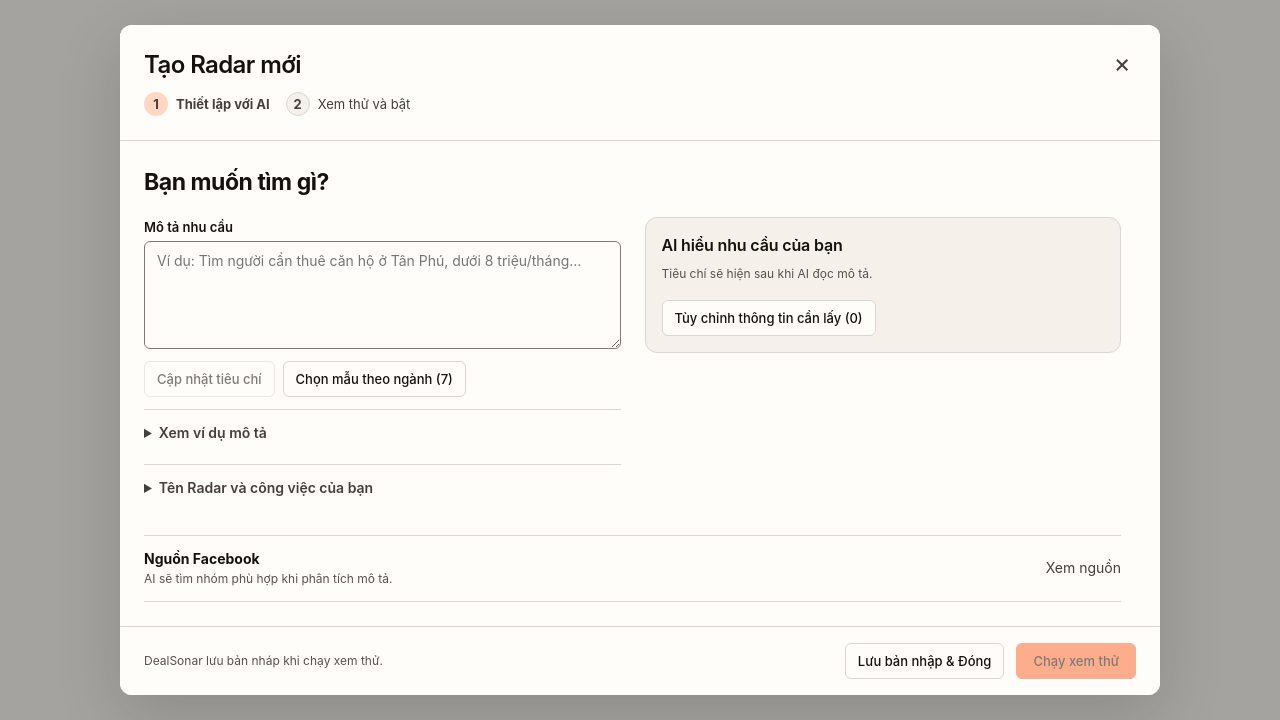
Test case: Radar goal interpretation › states a clear brief's side, excluded audience and assumption without asking
The width and height of the screenshot is (1280, 720).
Type "Tìm người cần thuê căn hộ ở Cầu Giấy" into the text box labelled "Mô tả nhu cầu" at (382, 295), box x1=144 y1=241 x2=620 y2=349
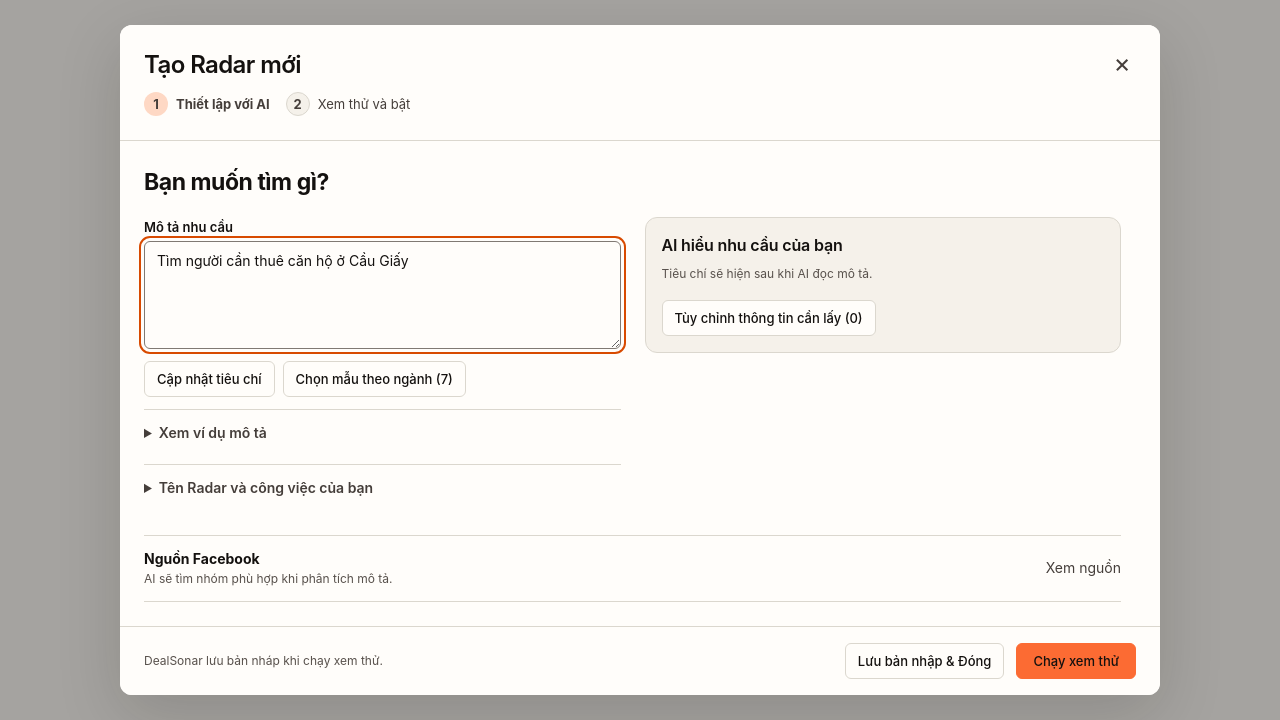
Click the button "Cập nhật tiêu chí" at (209, 379), box x1=144 y1=361 x2=275 y2=397
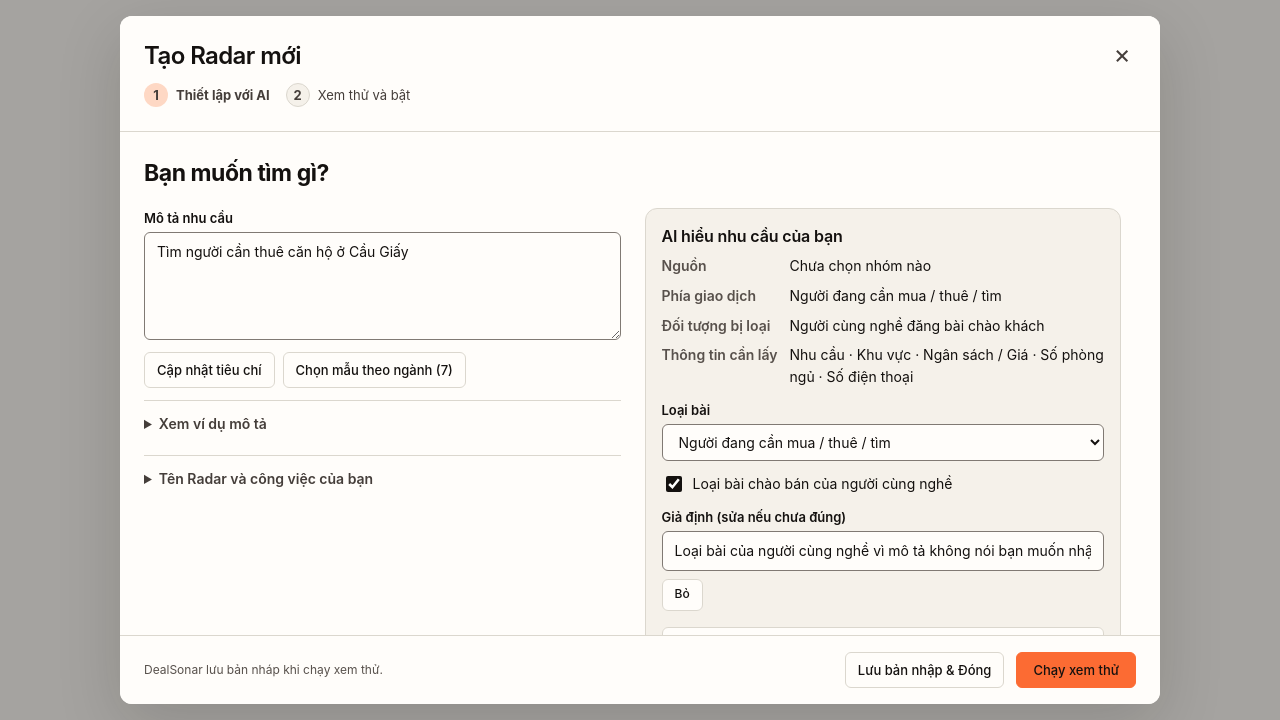
Check: the dropdown labelled "Loại bài" shows "Người đang cần mua / thuê / tìm", box x1=662 y1=424 x2=1104 y2=461
Check: the text "Người cùng nghề đăng bài chào khách" is shown, box x1=790 y1=317 x2=1044 y2=334
Check: the field named "Giả định 1" holds "Loại bài của người cùng nghề vì mô tả không nói bạn muốn nhận bài từ họ.", box x1=662 y1=531 x2=1104 y2=571
